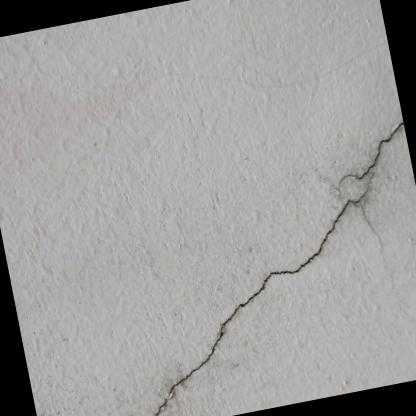crack: (153, 190, 366, 416), (354, 117, 404, 182)
